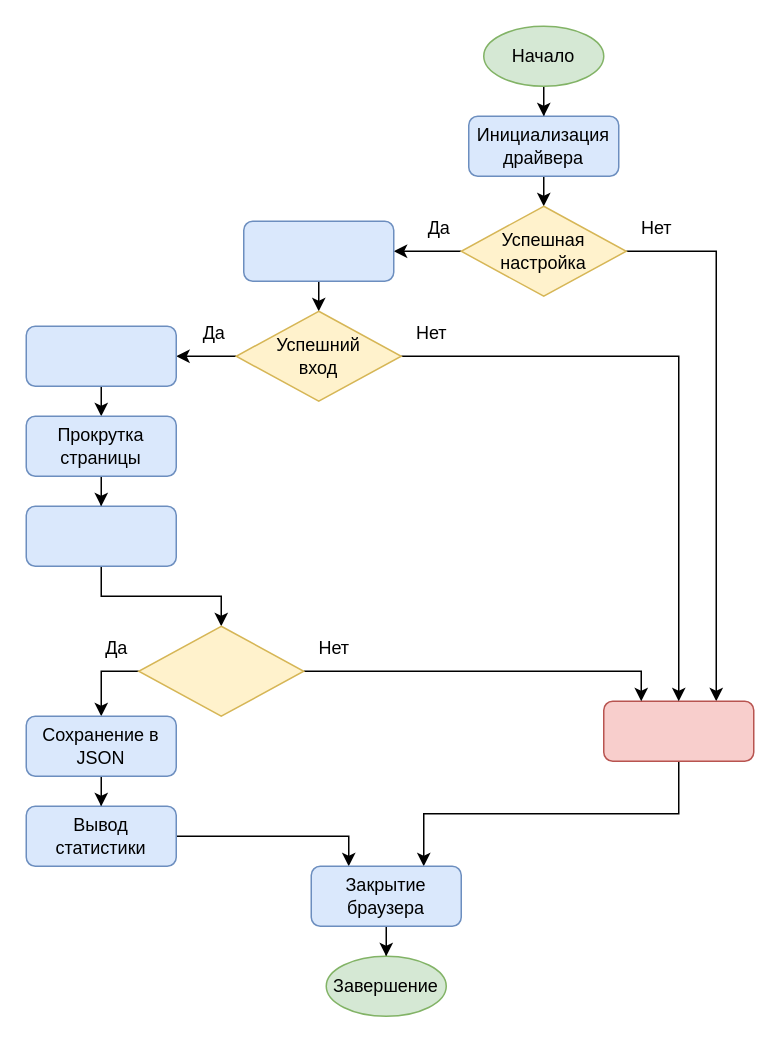
This 780x1043 diagram has some shape labels left out. Each missing label, with the centre of its shape:
"Авторизация" belongs at (x=318, y=250).
"Есть посты?" belongs at (x=220, y=670).
"Завершение с ошибкой" belongs at (x=678, y=730).
"Сбор информации о профиле" belongs at (x=100, y=355).
"Сбор постов" belongs at (x=100, y=535).
